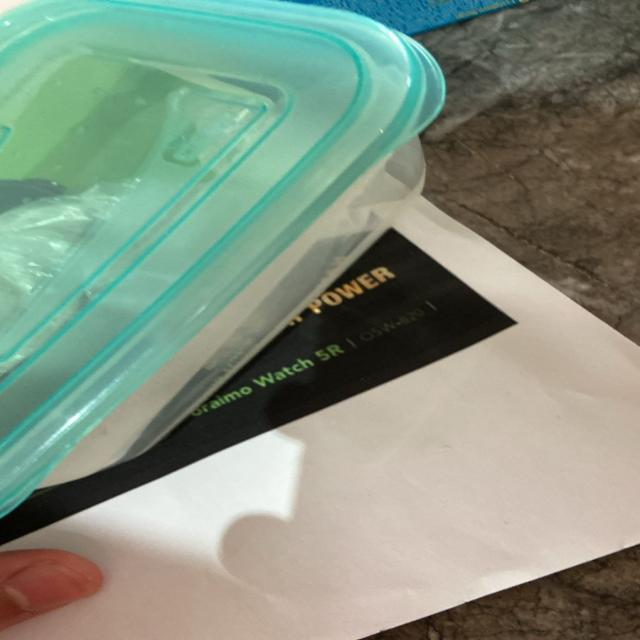Oraimo Watch 5R OSW-820: (191, 296, 448, 420)
